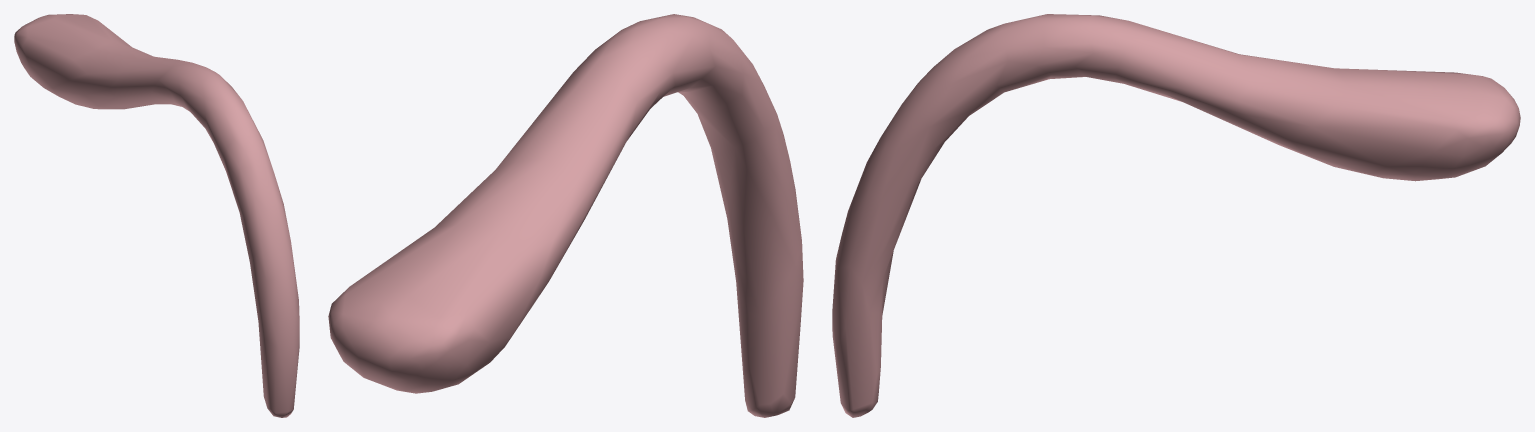
3 renders of one model, left to right at view 1: azimuth 30°, elevation 25°; view 2: azimuth 150°, elevation 25°; view 3: azimuth 270°, elevation 25°, orthographic. The views are drawn at different scales.
Visible parts, largest first — view 1: ZA_def8ca9aeb56e5b2; view 2: ZA_def8ca9aeb56e5b2; view 3: ZA_def8ca9aeb56e5b2.
Part boxes in pixels (box(x1,y1,x2,y2)): ZA_def8ca9aeb56e5b2: box(14, 14, 299, 417); ZA_def8ca9aeb56e5b2: box(328, 14, 803, 417); ZA_def8ca9aeb56e5b2: box(832, 14, 1520, 417).
Bounding box in the file's own units: 0.0213 × 0.0713 × 0.1121.
